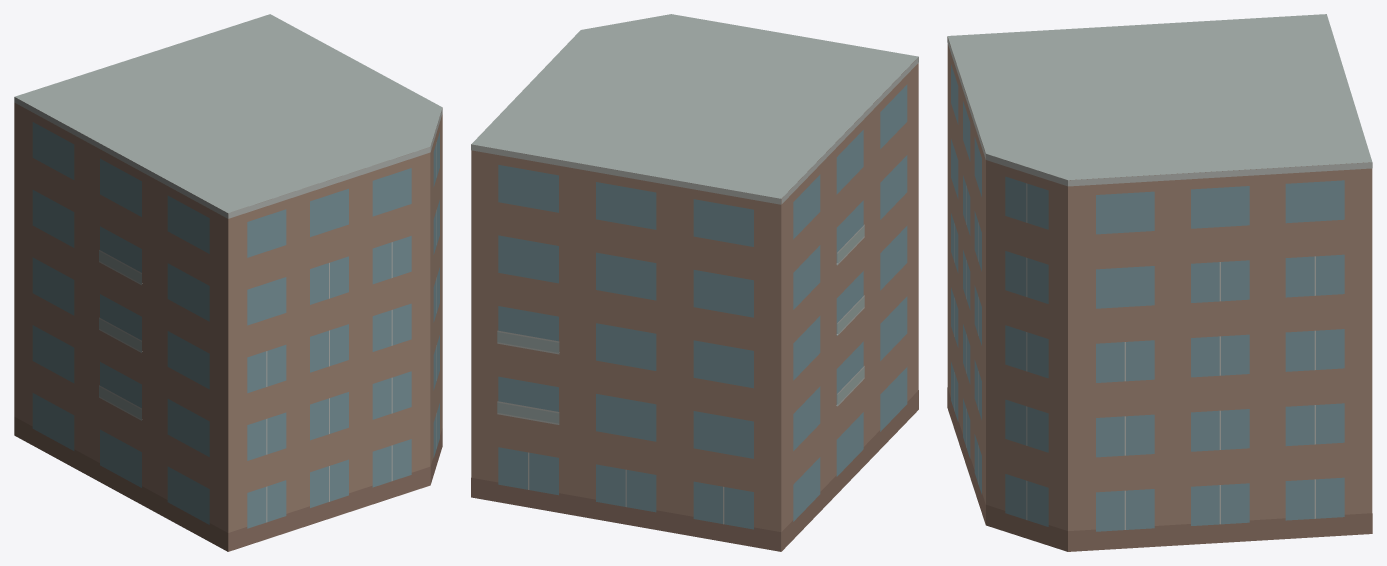
The model's file is survey-upis-32746764.glb.
The picture shows the model from 3 angles, left to right: view 1: azimuth 30°, elevation 25°; view 2: azimuth 150°, elevation 25°; view 3: azimuth 270°, elevation 25°; orthographic projection. The views are drawn at different scales.
Visible parts, largest first — view 1: survey-upis-32746764.tmp; view 2: survey-upis-32746764.tmp; view 3: survey-upis-32746764.tmp.
Boxes of the visible parts, x1=… form: survey-upis-32746764.tmp: x1=14, y1=14, x2=442, y2=551; survey-upis-32746764.tmp: x1=471, y1=14, x2=918, y2=551; survey-upis-32746764.tmp: x1=947, y1=14, x2=1372, y2=551.
Bounding box in the file's own units: 13.92 × 14.5 × 15.04.
